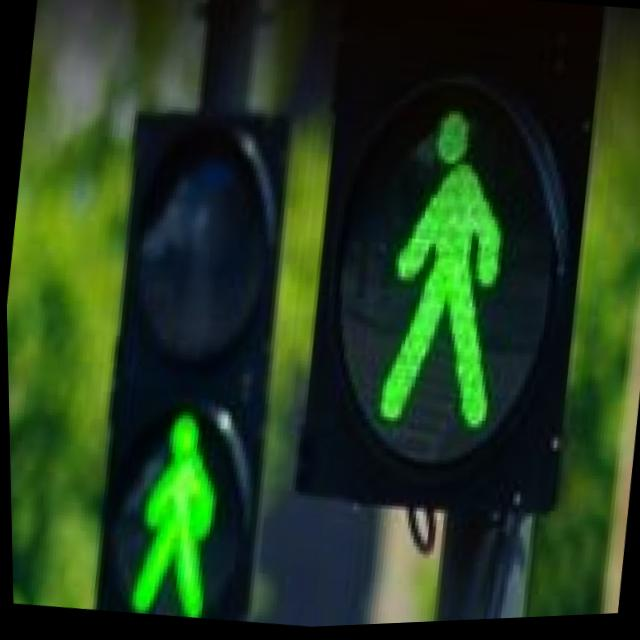green_light: (250, 51, 640, 500), (7, 319, 322, 637)
